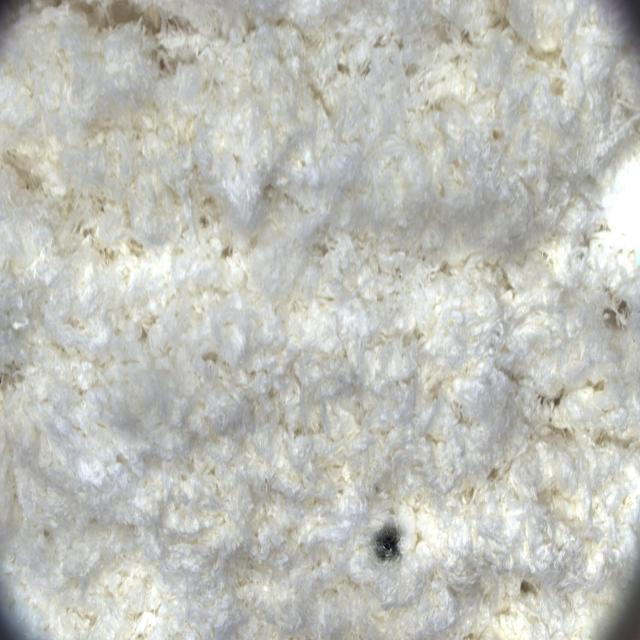dust: (359, 496, 422, 594)
